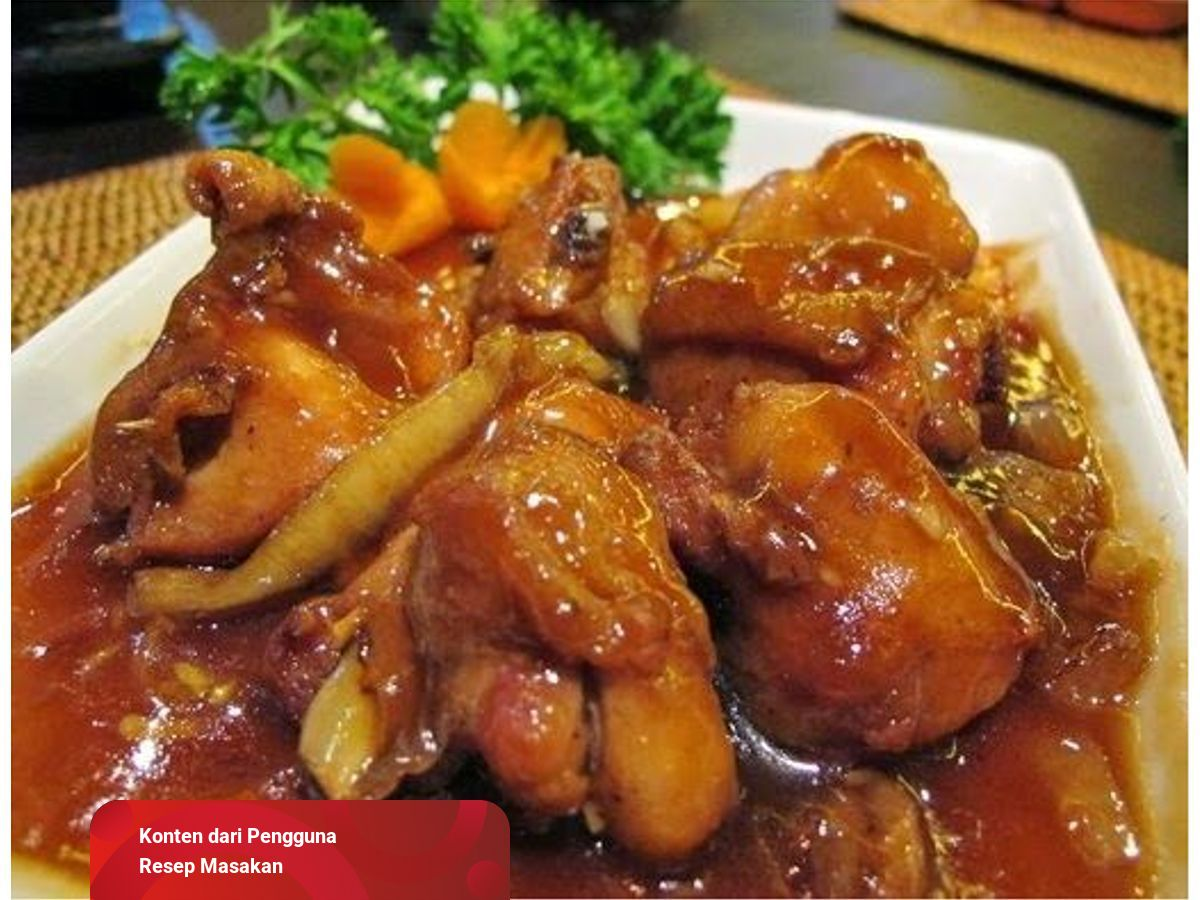Ayam: (126, 220, 450, 554), (685, 425, 1022, 724), (431, 464, 676, 864)
